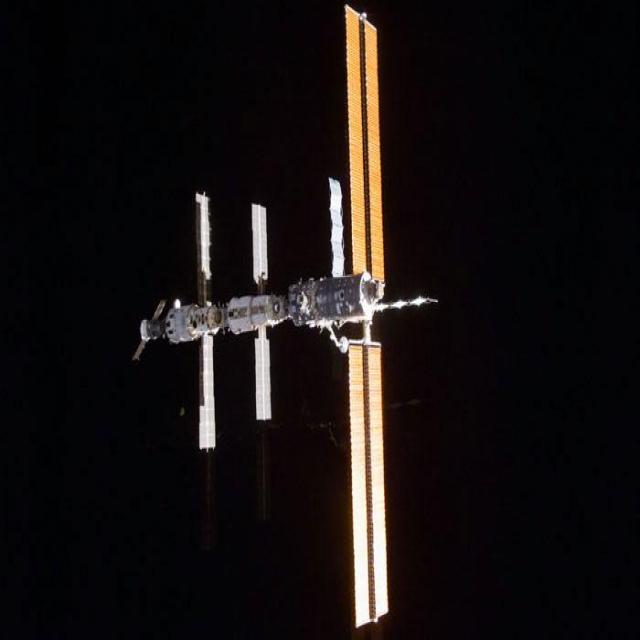medium_debris: (134, 6, 431, 626)
